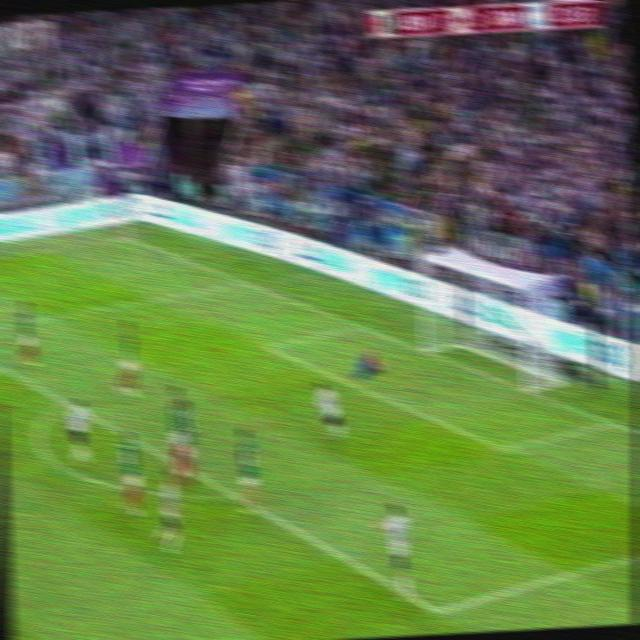bigarea_bottom_inner: (427, 598, 448, 625)
bigarea_top_outter: (236, 275, 251, 288)
corner: (119, 233, 135, 241)
smallarea_bottom_inner: (492, 438, 514, 458)
smallarea_bottom_outter: (601, 413, 619, 431)
smallarea_top_inner: (260, 339, 277, 354)
smallarea_top_outter: (352, 319, 367, 331)
top_arc_area_intersection: (57, 395, 73, 410)
